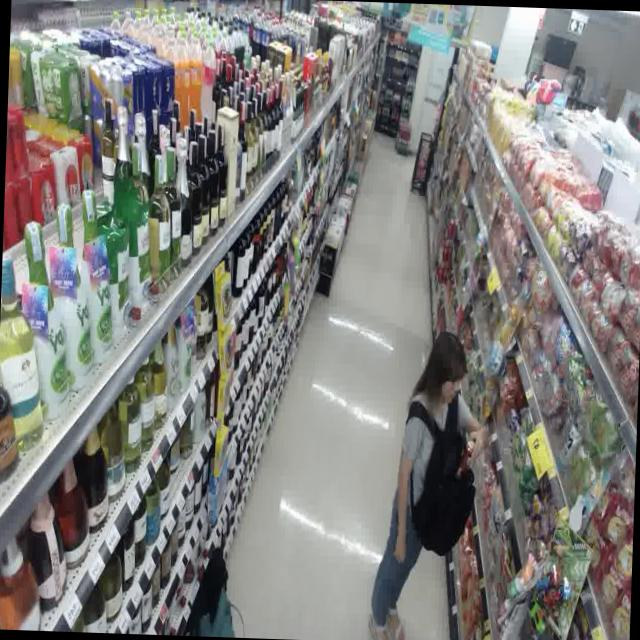shoplifting: (356, 299, 495, 640)
